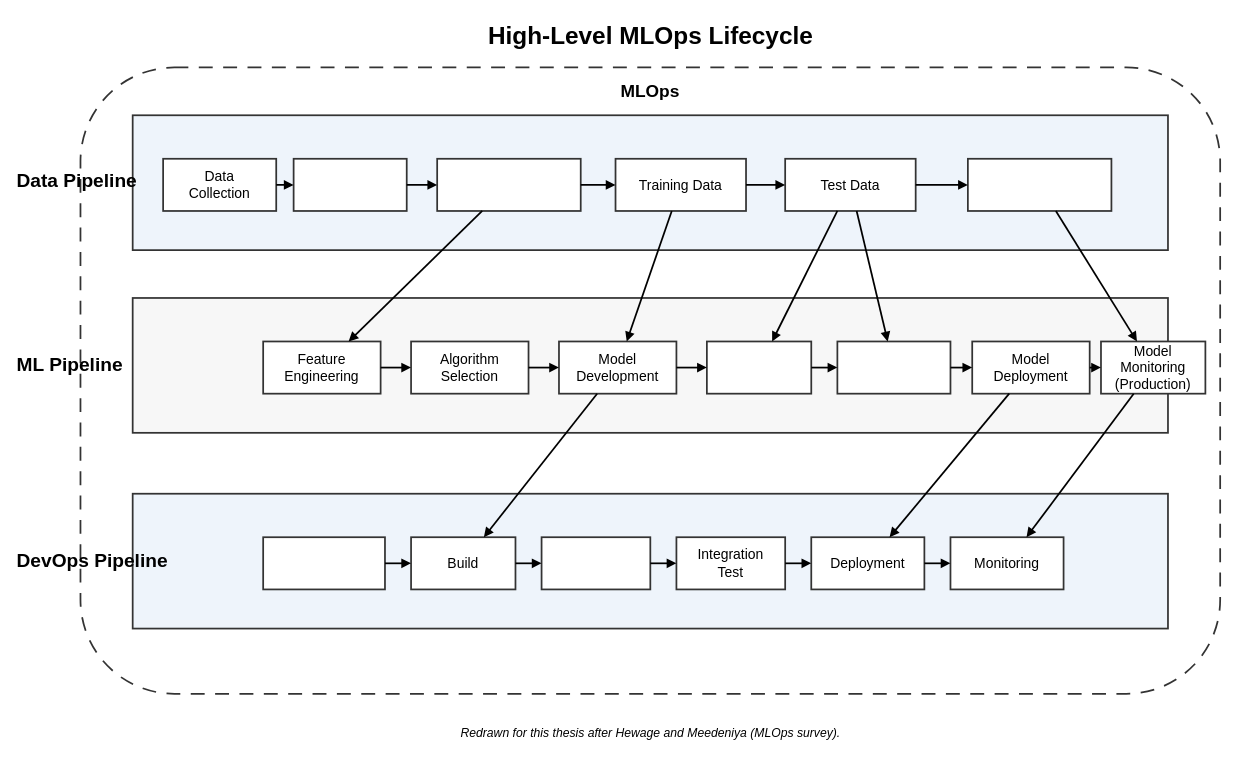
The diagram is 1235 pixels wide and 760 high, and some of its shapes have lost their labels. Each missing label, with the centre of its shape:
Code Commit: the point at 323,563
Data Wrangling: the point at 349,184
Evaluation: the point at 759,367
Optimization: the point at 893,367
Production Data: the point at 1039,184
Unit Test: the point at 595,563
Validated Data: the point at 508,184
